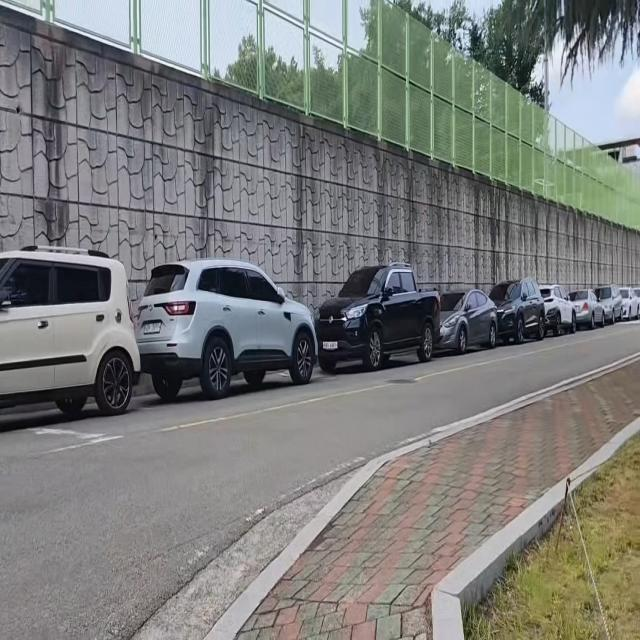obstacle: (0, 240, 322, 428), (315, 264, 640, 372)
sidewalk: (201, 357, 640, 640)
